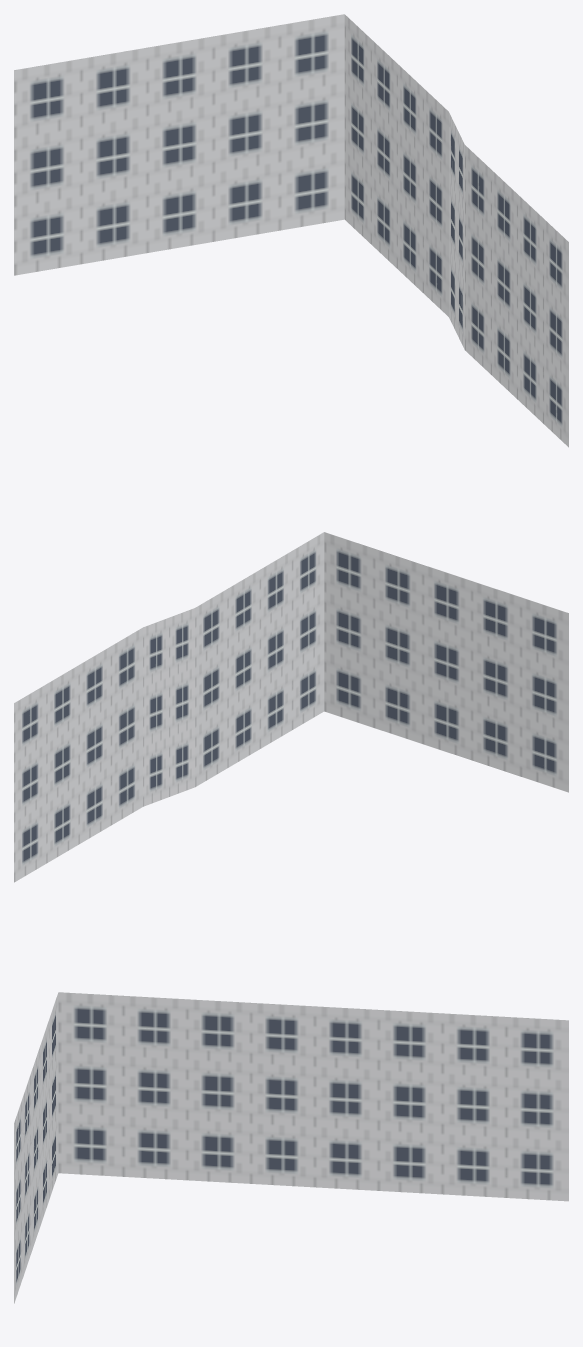
3 views of the same model, one above another, from view 1: azimuth 30°, elevation 25°; view 2: azimuth 150°, elevation 25°; view 3: azimuth 270°, elevation 25° (orthographic). The views are drawn at different scales.
Size of the model in its own units: 17 by 9 by 25.
Materials: 2 (1 with a texture image).
